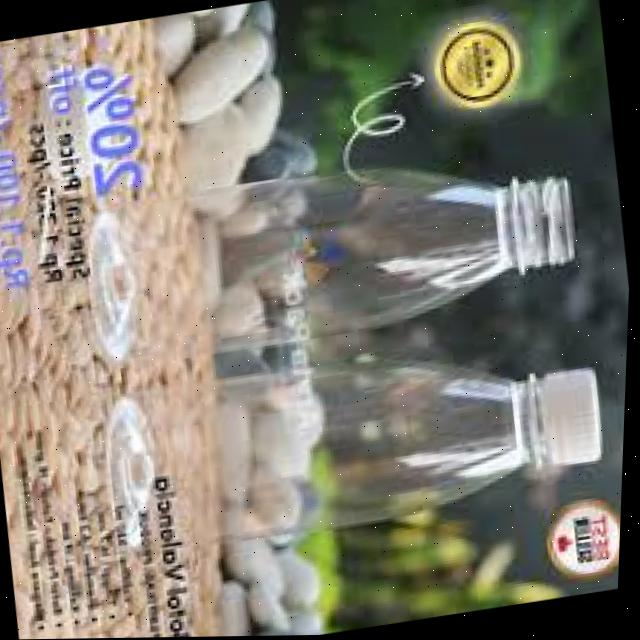Dry: (78, 305, 624, 567), (71, 138, 589, 380)
